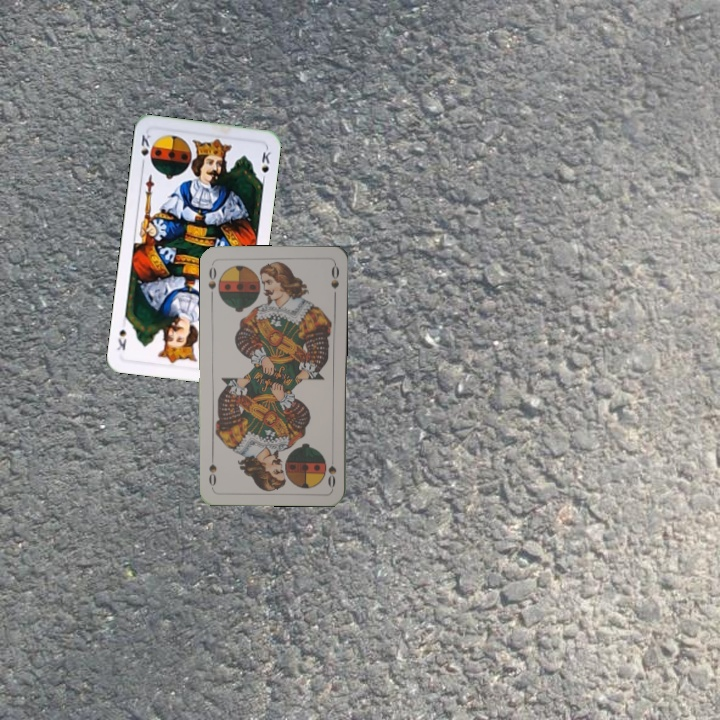SK: (137, 130, 155, 169)
SO: (324, 450, 339, 490), (204, 260, 219, 300)
